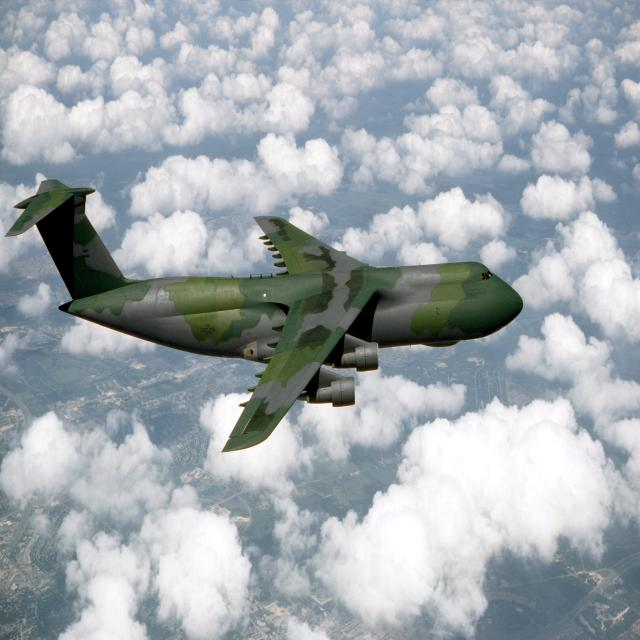MIL_Plane: (227, 181, 299, 451)
